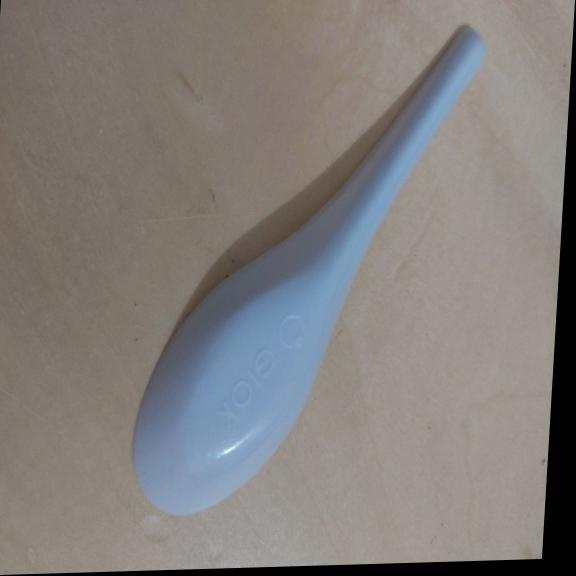Plastik: (134, 28, 483, 514)
